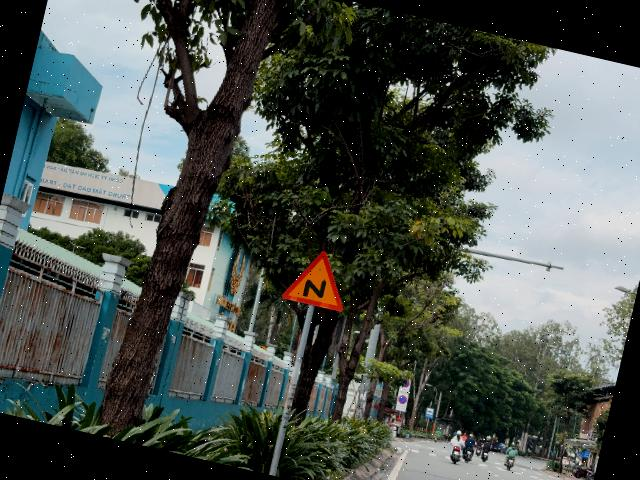nhieu-cho-ngoat-nguy-hiem-lien-tiep: (281, 244, 354, 311)
